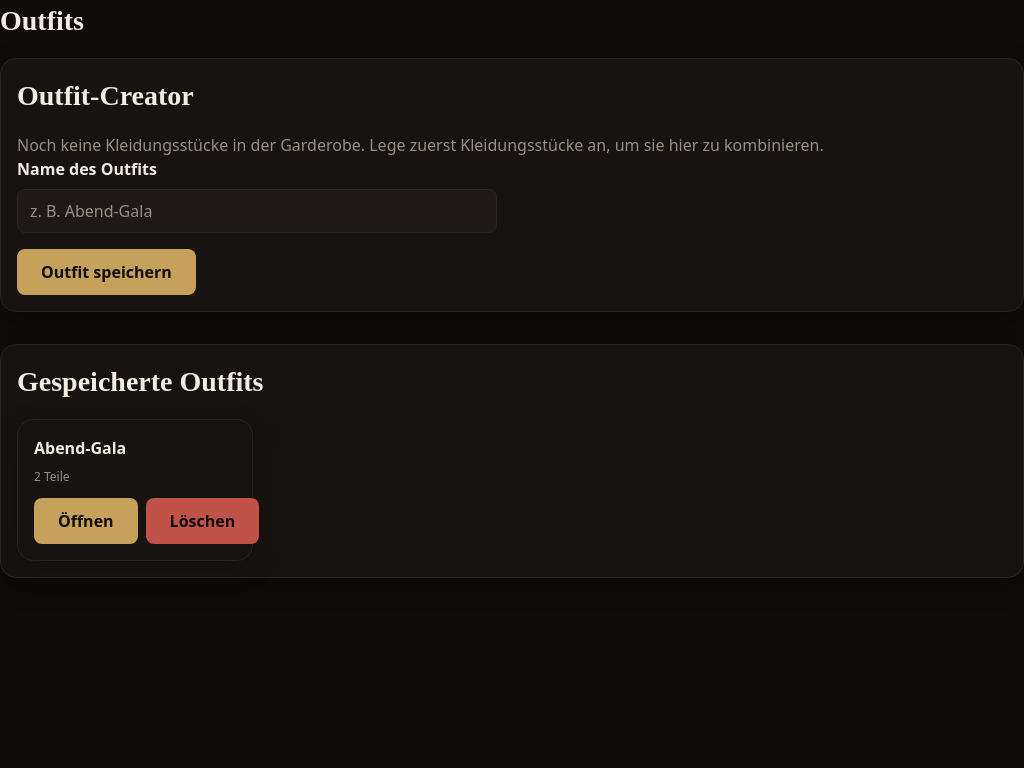
Test case: Outfits › öffnet ein Outfit in der Detailansicht
Click the button "Öffnen". click: (86, 521)
box: top-left (34, 498), bottom-right (138, 544)
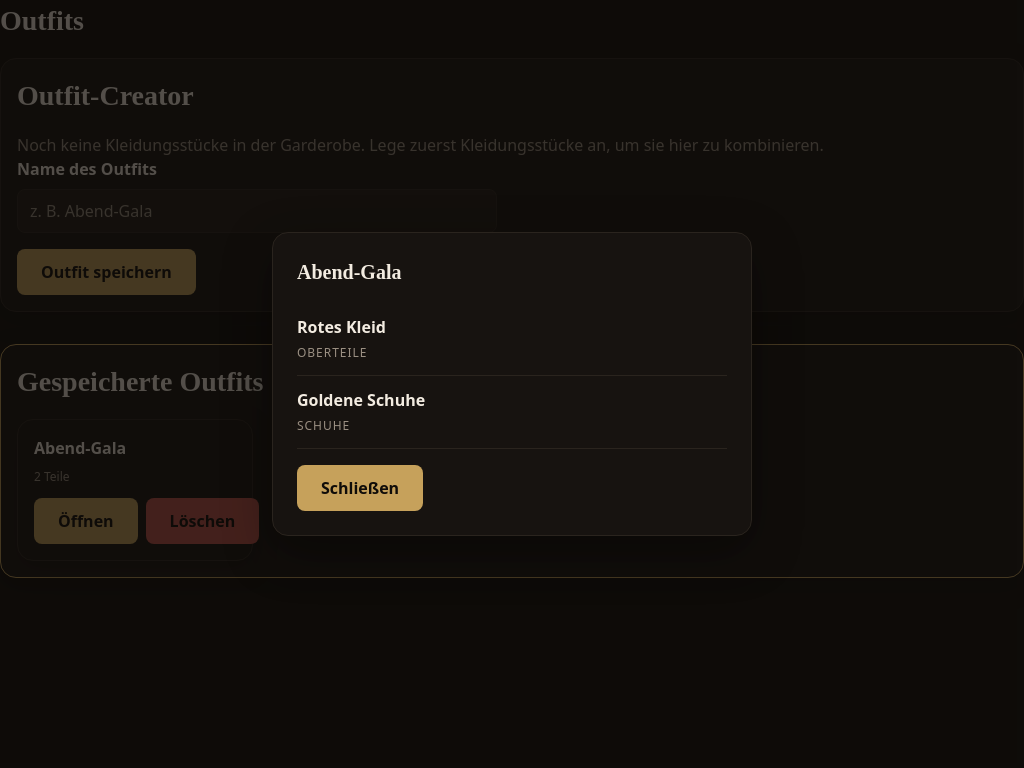
Expected: the text "Rotes Kleid" is shown, top-left (297, 316), bottom-right (386, 338)
Expected: the text "Goldene Schuhe" is shown, top-left (297, 389), bottom-right (425, 411)
